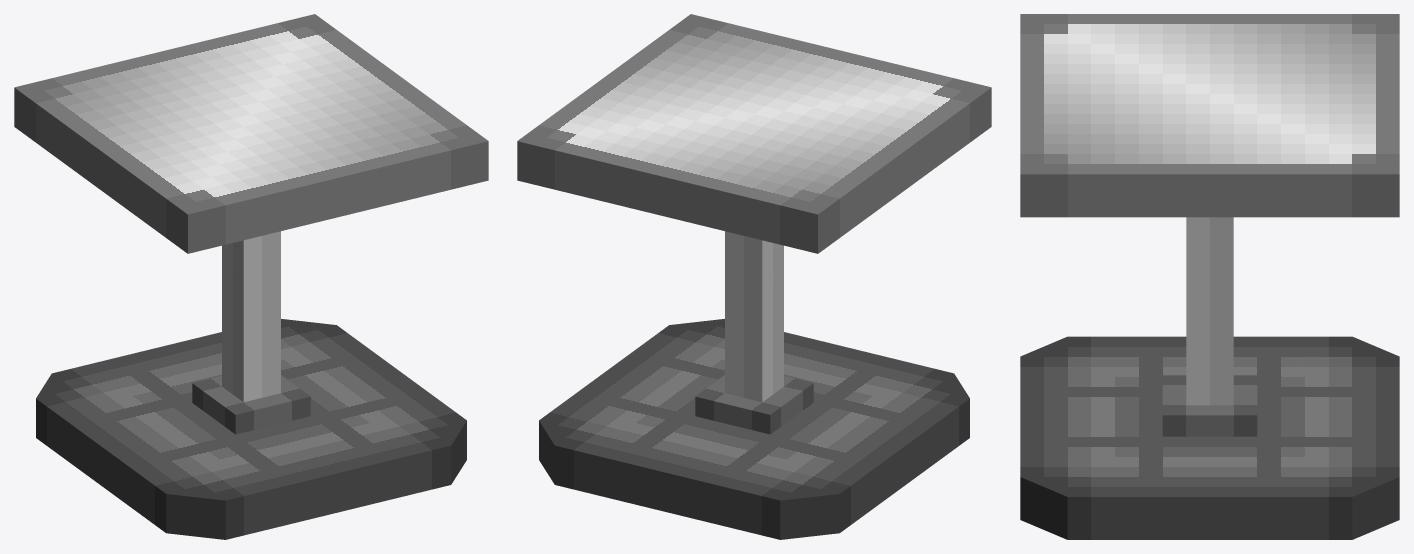
The model's file is solar_mirror.obj.
3 renders of one model, left to right at view 1: azimuth 30°, elevation 25°; view 2: azimuth 150°, elevation 25°; view 3: azimuth 270°, elevation 25°, orthographic. The views are drawn at different scales.
Visible parts, largest first — view 1: Base, Mirror; view 2: Base, Mirror; view 3: Base, Mirror.
Boxes of the visible parts, bbox=[...] form: Base: bbox=[36, 231, 466, 539]; Mirror: bbox=[14, 14, 488, 253]; Base: bbox=[539, 231, 969, 539]; Mirror: bbox=[517, 14, 991, 253]; Base: bbox=[1020, 217, 1399, 539]; Mirror: bbox=[1020, 14, 1399, 217].
Bounding box in the file's own units: 1 × 1.06 × 1.
